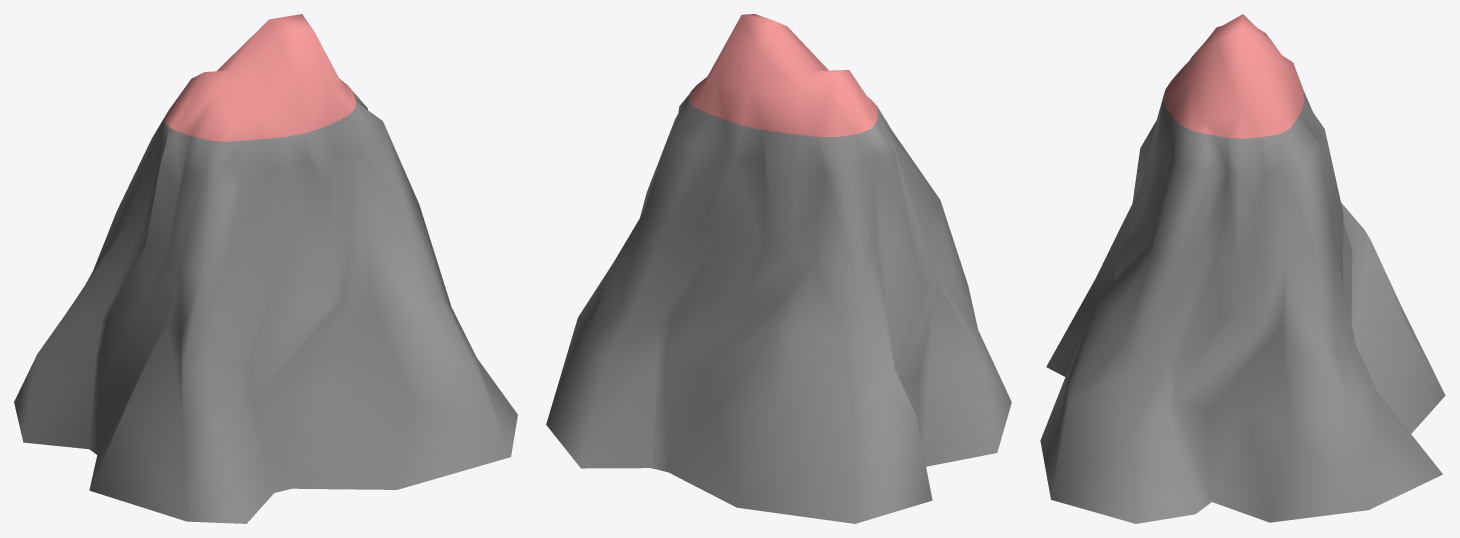
File: beachBstone2.gltf
3 renders of one model, left to right at view 1: azimuth 30°, elevation 25°; view 2: azimuth 150°, elevation 25°; view 3: azimuth 270°, elevation 25°, orthographic. The views are drawn at different scales.
Visible parts, largest first — view 1: beachBstone2; view 2: beachBstone2; view 3: beachBstone2.
Part boxes in pixels (<box>): beachBstone2: <box>14,14,517,523</box>; beachBstone2: <box>546,14,1011,523</box>; beachBstone2: <box>1040,14,1445,523</box>.
Bounding box in the file's own units: 7.15 × 6.92 × 6.16.
